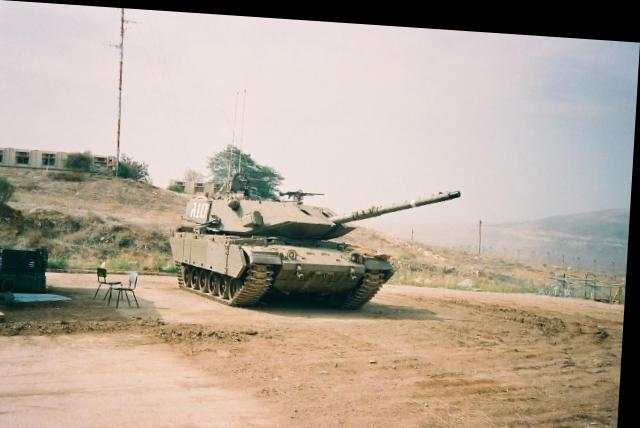tank: (172, 161, 468, 313)
